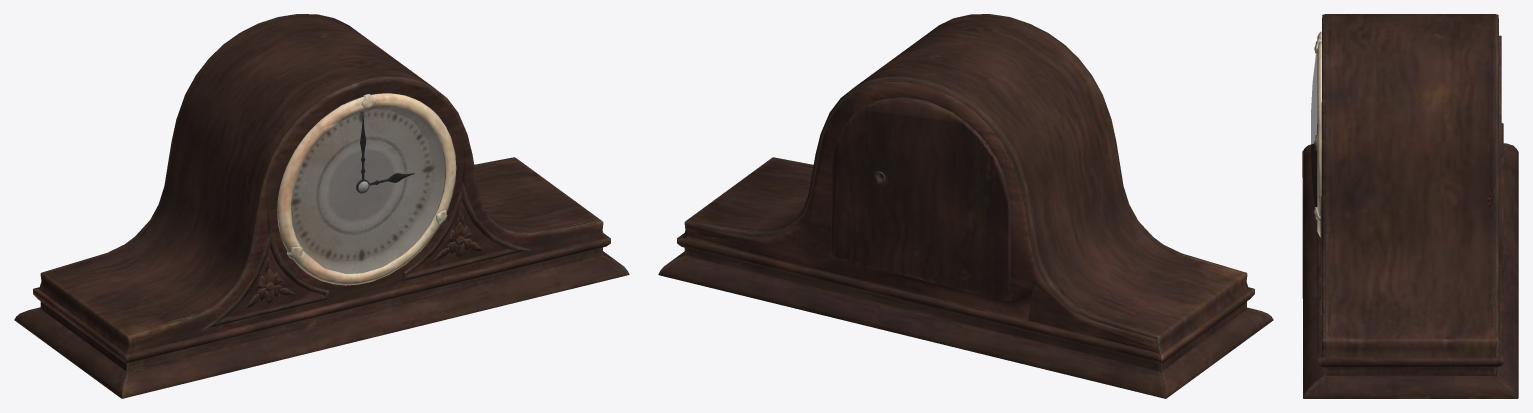
File: ph_mantel_clock_01.glb
The picture shows the model from 3 angles, left to right: view 1: azimuth 30°, elevation 25°; view 2: azimuth 150°, elevation 25°; view 3: azimuth 270°, elevation 25°; orthographic projection.
Visible parts, largest first — view 1: mantel_clock_01; view 2: mantel_clock_01; view 3: mantel_clock_01.
Boxes of the visible parts, x1,y1,x2,y2 form: mantel_clock_01: (14, 14, 629, 398); mantel_clock_01: (658, 14, 1273, 398); mantel_clock_01: (1302, 14, 1518, 398).
Size of the model in its own units: 0.342 by 0.1605 by 0.1262.
2 materials, 2 textured.
